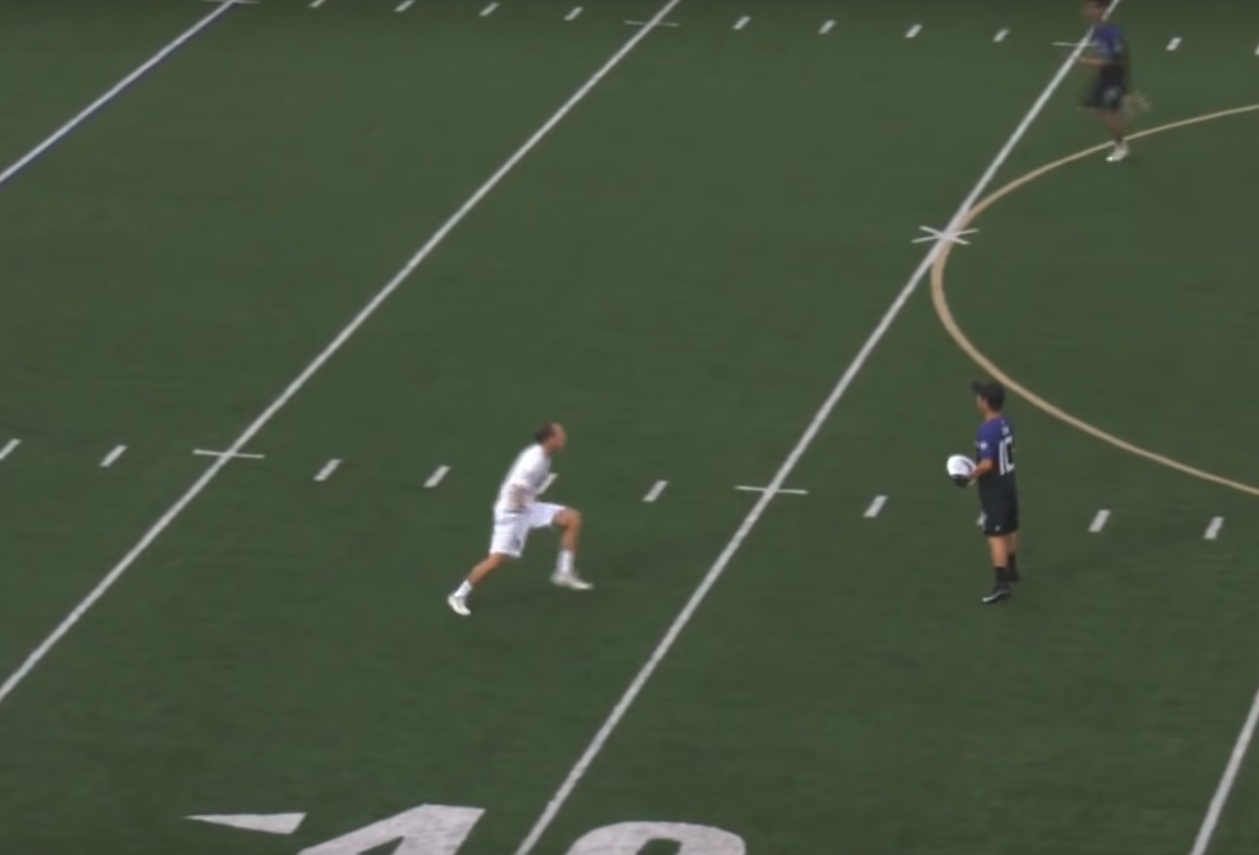frisbee: (946, 453, 978, 487)
